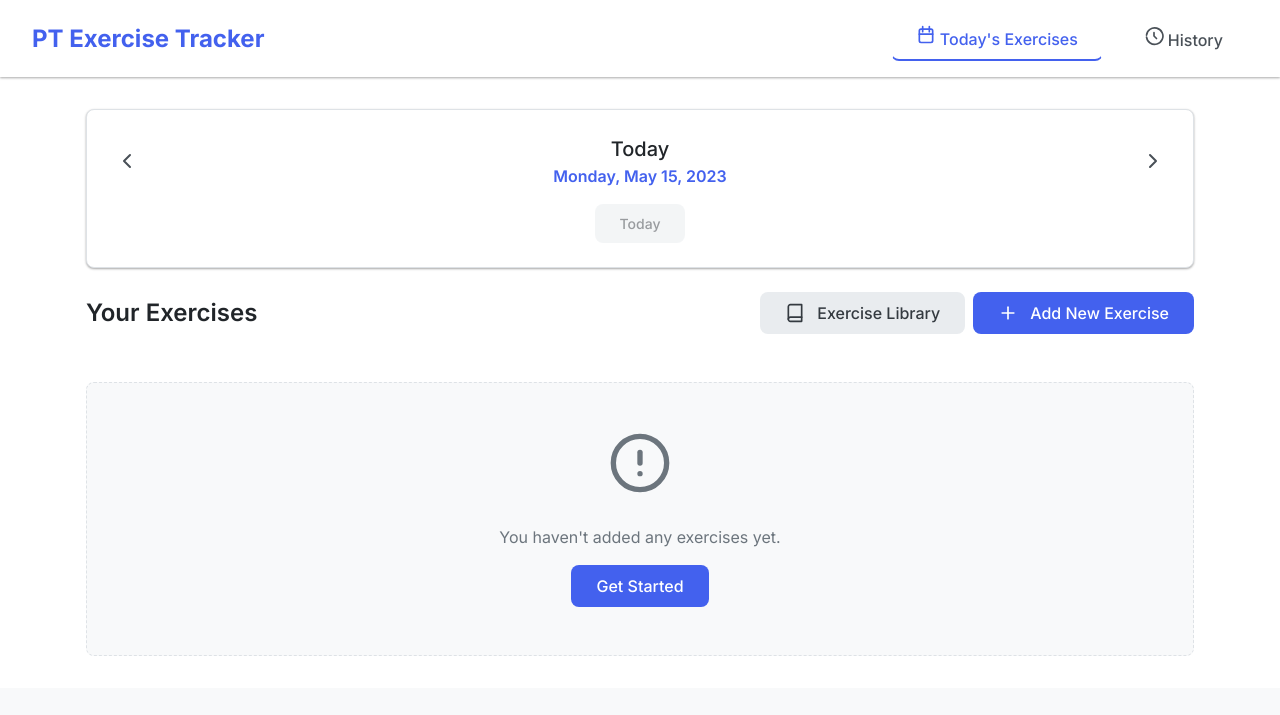
it: Integration Tests › Editing and Deleting Exercises › should confirm and delete an exercise
This screenshot has width=1280, height=715.
Add an exercise
Click the button "Add New Exercise".
click(1084, 313)  # box [973,292,1194,334]
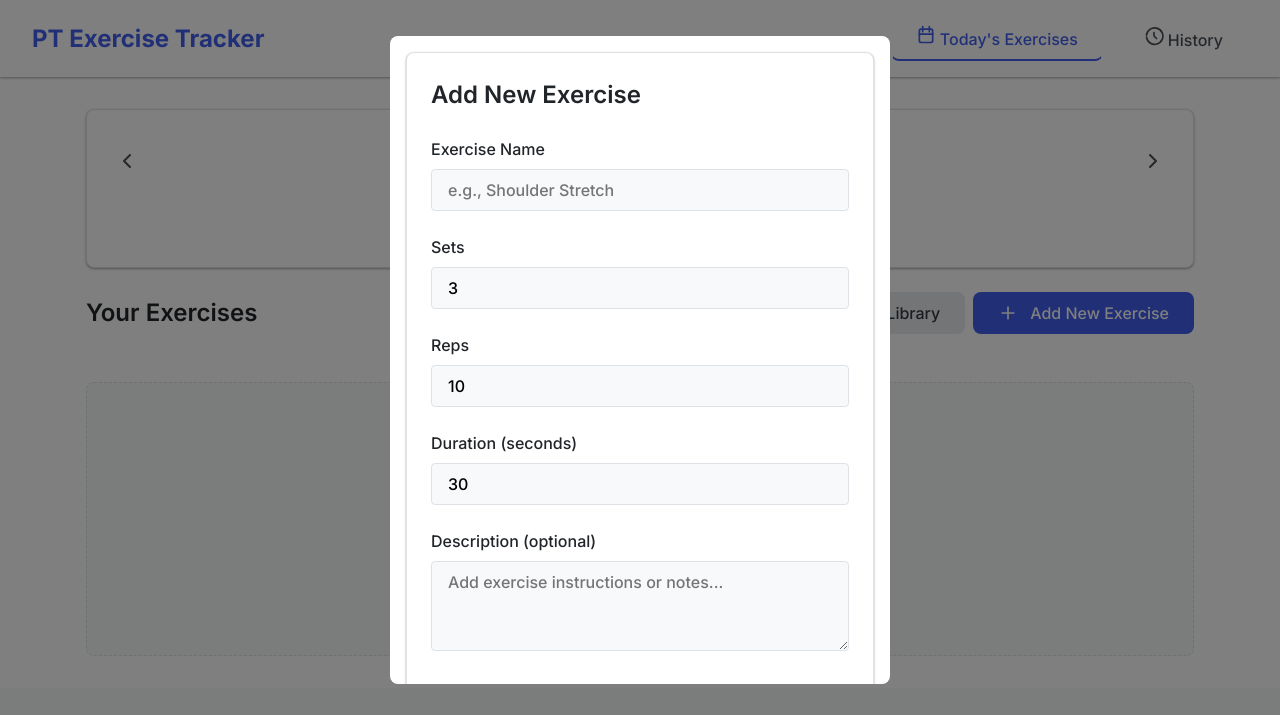
Type "Temporary Exercise" into the field labelled "Exercise Name".
click(640, 190); type("Temporary Exercise")  # box [431,169,849,211]
(page scrolled)
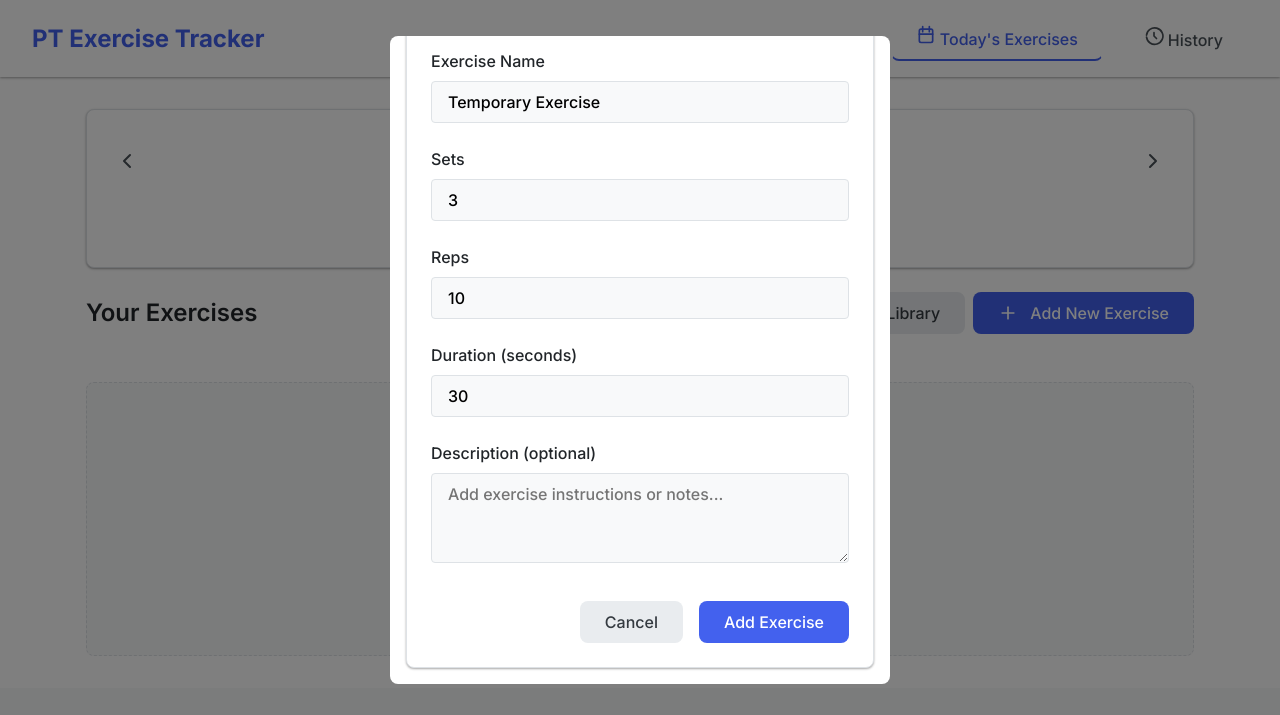
Click the button "Add Exercise".
click(774, 622)  # box [699,601,849,643]
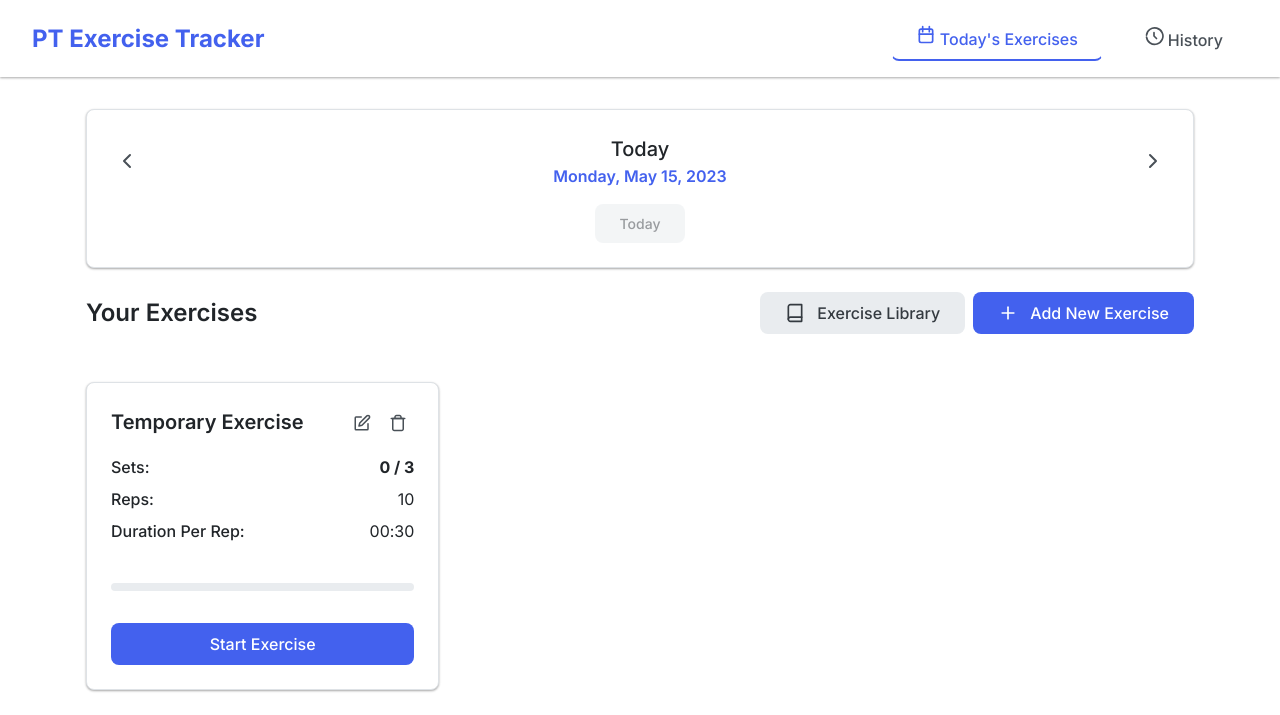
Click delete button
Click the button named "Delete exercise".
click(398, 423)  # box [382,407,414,439]
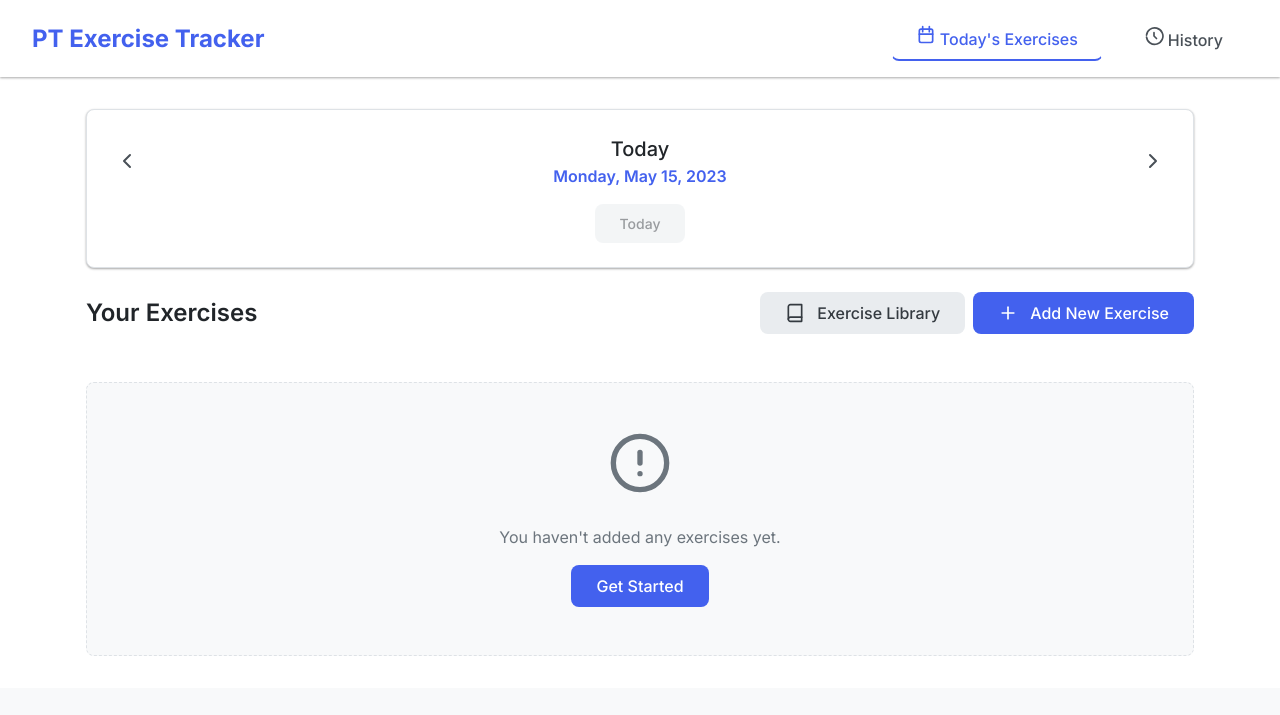
Check: the heading "Temporary Exercise" is gone
Check: the text "You haven't added any exercises yet." is shown, box [499,527,781,547]
